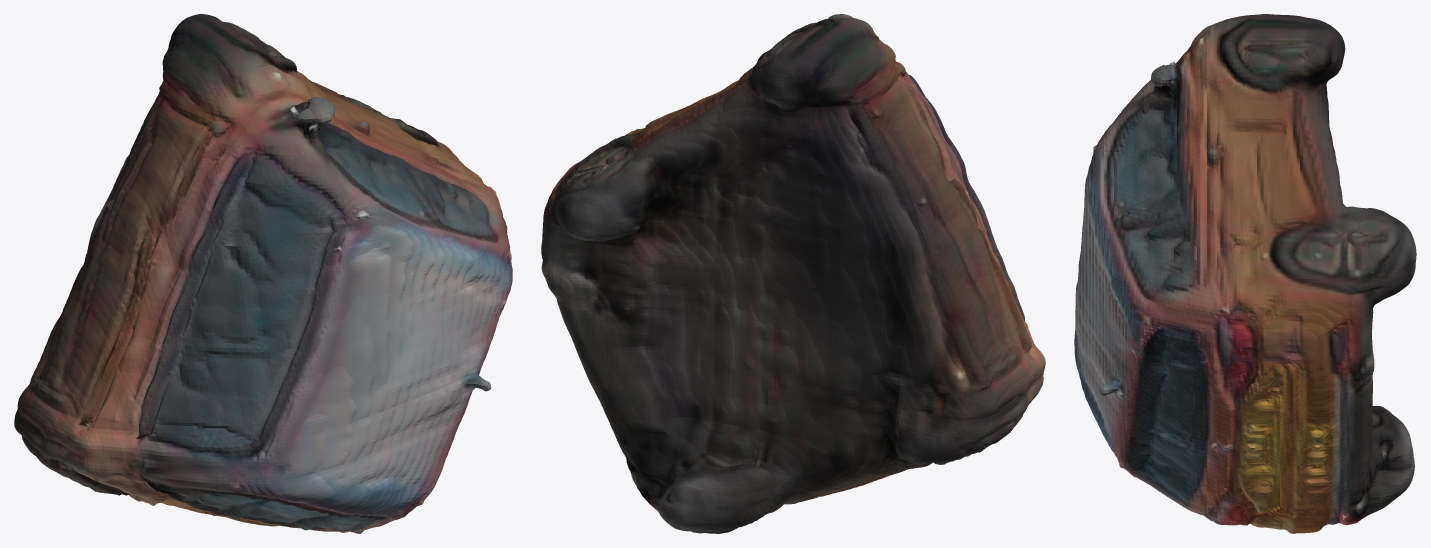
The picture shows the model from 3 angles, left to right: view 1: azimuth 30°, elevation 25°; view 2: azimuth 150°, elevation 25°; view 3: azimuth 270°, elevation 25°; orthographic projection. The views are drawn at different scales.
Visible parts, largest first — view 1: world; view 2: world; view 3: world.
Part boxes in pixels (bbox=[...]): world: bbox=[14, 14, 512, 533]; world: bbox=[541, 14, 1045, 533]; world: bbox=[1074, 14, 1416, 533].
Size of the model in its own units: 0.9739 by 1.05 by 0.7028.
